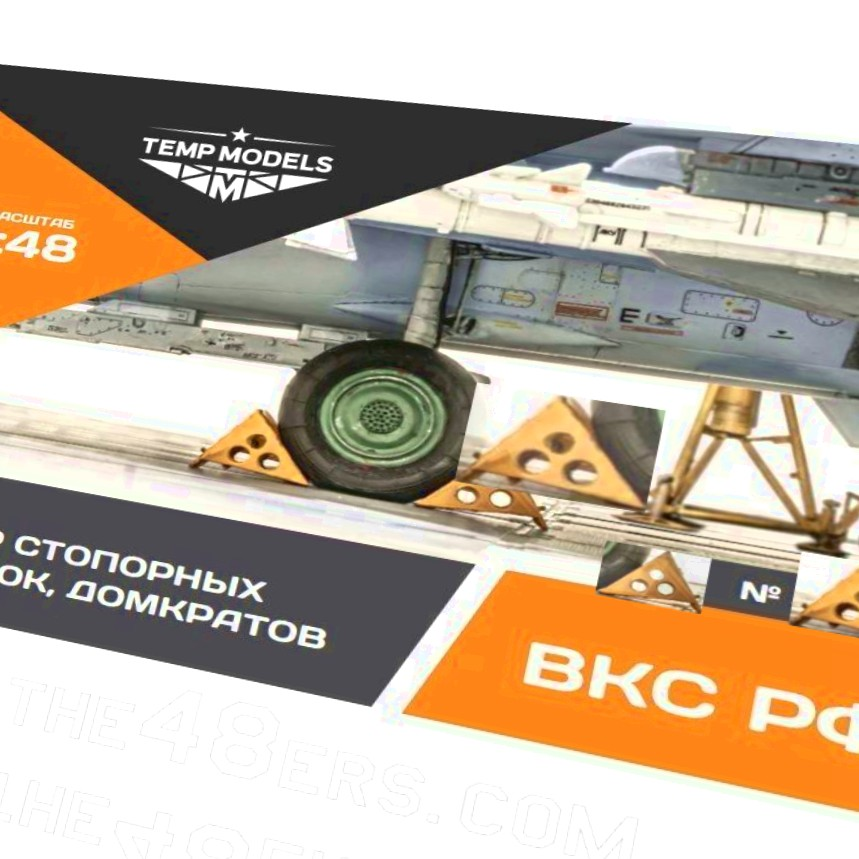chock: (454, 376, 669, 515), (409, 434, 562, 533), (187, 397, 326, 490), (594, 540, 714, 614), (785, 551, 859, 652)
wheel: (259, 313, 506, 513)
